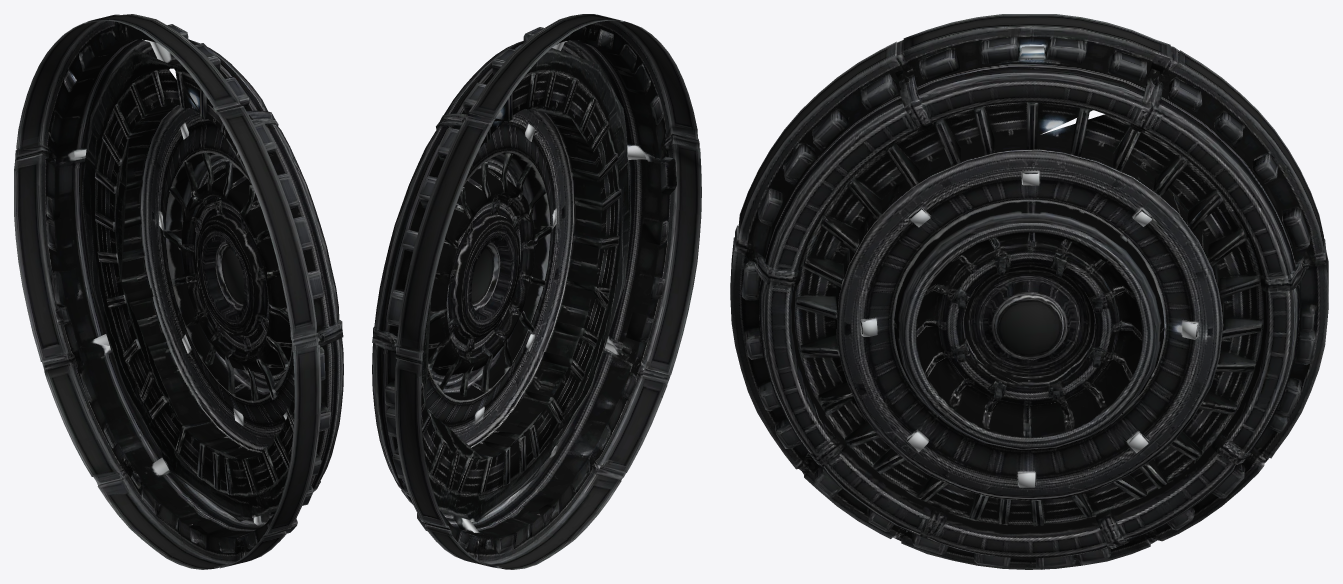
Rendered from sci-fi-stargate-props-overhead-ceiling-ring-structure.glb.
3 views of the same model, side by side, from view 1: azimuth 30°, elevation 25°; view 2: azimuth 150°, elevation 25°; view 3: azimuth 270°, elevation 25° (orthographic). The views are drawn at different scales.
Parts seen in each view (by area): view 1: Overhead Ceiling Ring Structure; view 2: Overhead Ceiling Ring Structure; view 3: Overhead Ceiling Ring Structure.
Boxes of the visible parts, left/top/right/bottom form: Overhead Ceiling Ring Structure: left=14, top=14, right=343, bottom=569; Overhead Ceiling Ring Structure: left=372, top=14, right=701, bottom=569; Overhead Ceiling Ring Structure: left=730, top=14, right=1328, bottom=569.
Bounding box in the file's own units: 0.2012 × 0.998 × 0.998.
Materials: 1 (1 with a texture image).
